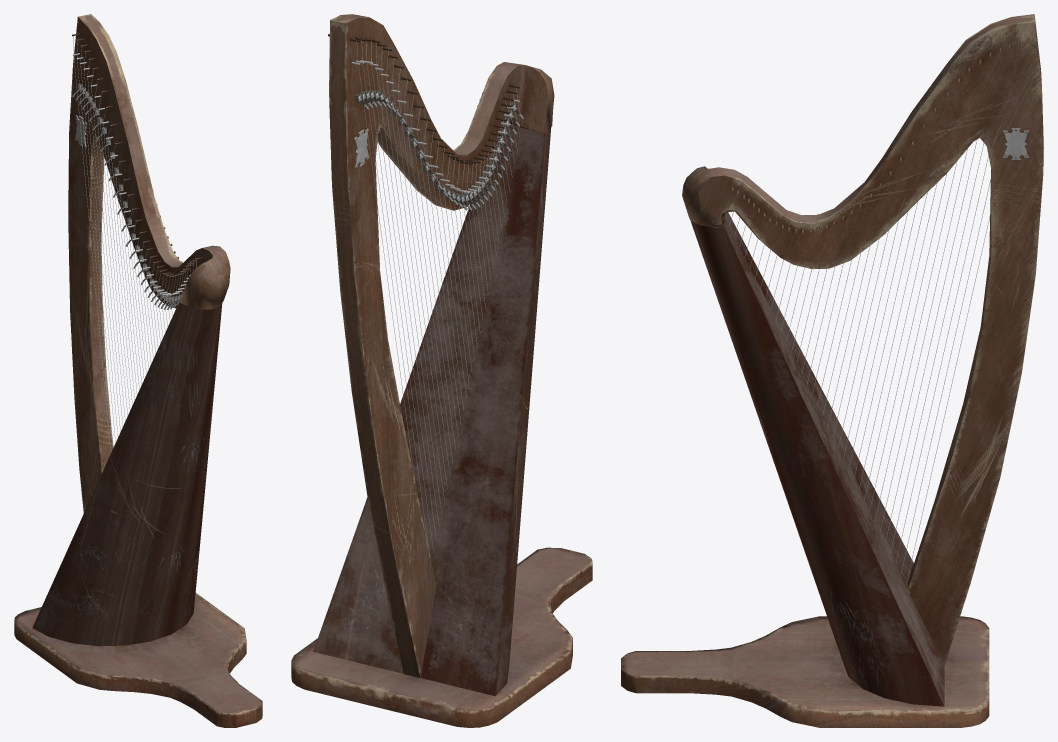
The picture shows the model from 3 angles, left to right: view 1: azimuth 30°, elevation 25°; view 2: azimuth 150°, elevation 25°; view 3: azimuth 270°, elevation 25°; orthographic projection. The views are drawn at different scales.
Visible parts, largest first — view 1: Harp; view 2: Harp; view 3: Harp.
Boxes of the visible parts, x1,y1,x2,y2 form: Harp: (14,14,262,727); Harp: (291,14,592,727); Harp: (621,14,1043,727).
Bounding box in the file's own units: 18.7 × 61.37 × 35.01.
